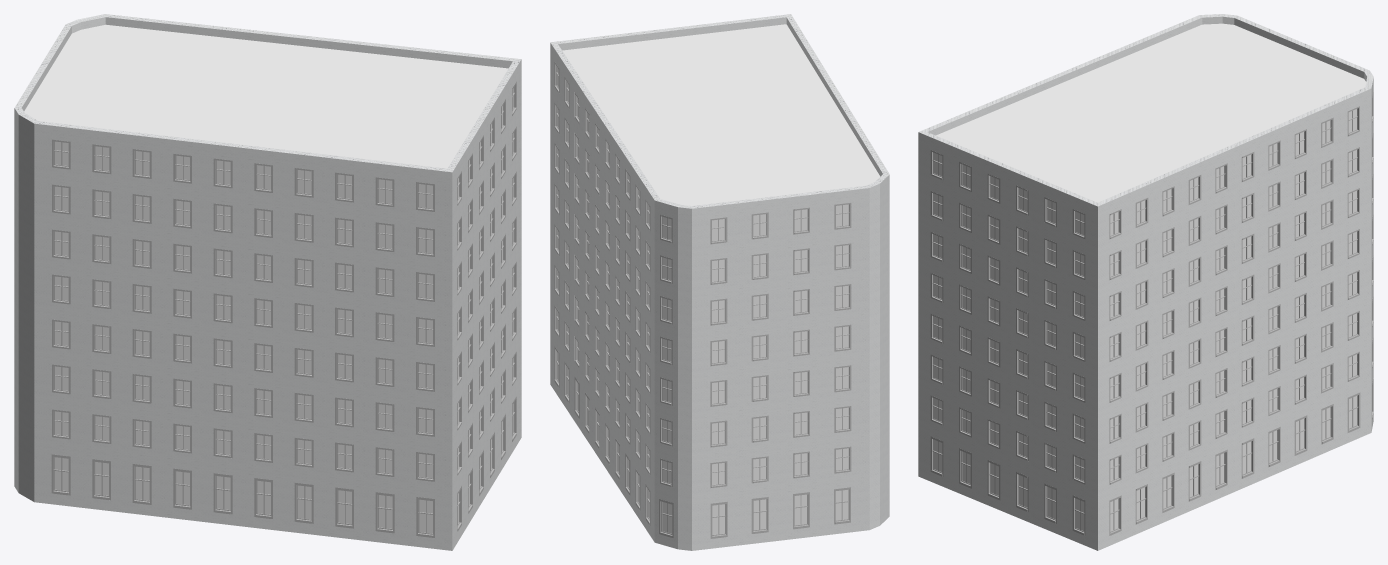
File: clohc2cxt03i54p02fefrto0a_0.glb
The picture shows the model from 3 angles, left to right: view 1: azimuth 30°, elevation 25°; view 2: azimuth 150°, elevation 25°; view 3: azimuth 270°, elevation 25°; orthographic projection. The views are drawn at different scales.
Visible parts, largest first — view 1: mesh_Brick, mesh_CityEnginePBRShader, mesh_Rim, mesh_Glass; view 2: mesh_Brick, mesh_CityEnginePBRShader, mesh_Rim, mesh_Glass; view 3: mesh_Brick, mesh_CityEnginePBRShader, mesh_Rim, mesh_Glass.
Part boxes in pixels (x1,y1,x2,y2): mesh_Brick: (14, 14, 521, 550); mesh_CityEnginePBRShader: (24, 24, 508, 168); mesh_Rim: (51, 81, 516, 537); mesh_Glass: (54, 88, 513, 533); mesh_Brick: (550, 14, 889, 550); mesh_CityEnginePBRShader: (562, 24, 880, 205); mesh_Rim: (554, 62, 851, 538); mesh_Glass: (557, 67, 848, 534); mesh_Brick: (918, 14, 1373, 550); mesh_CityEnginePBRShader: (936, 23, 1366, 202); mesh_Rim: (930, 92, 1373, 535); mesh_Glass: (934, 109, 1356, 531).
Size of the model in its own units: 35.81 by 29.86 by 35.78.
4 materials, 1 textured.
